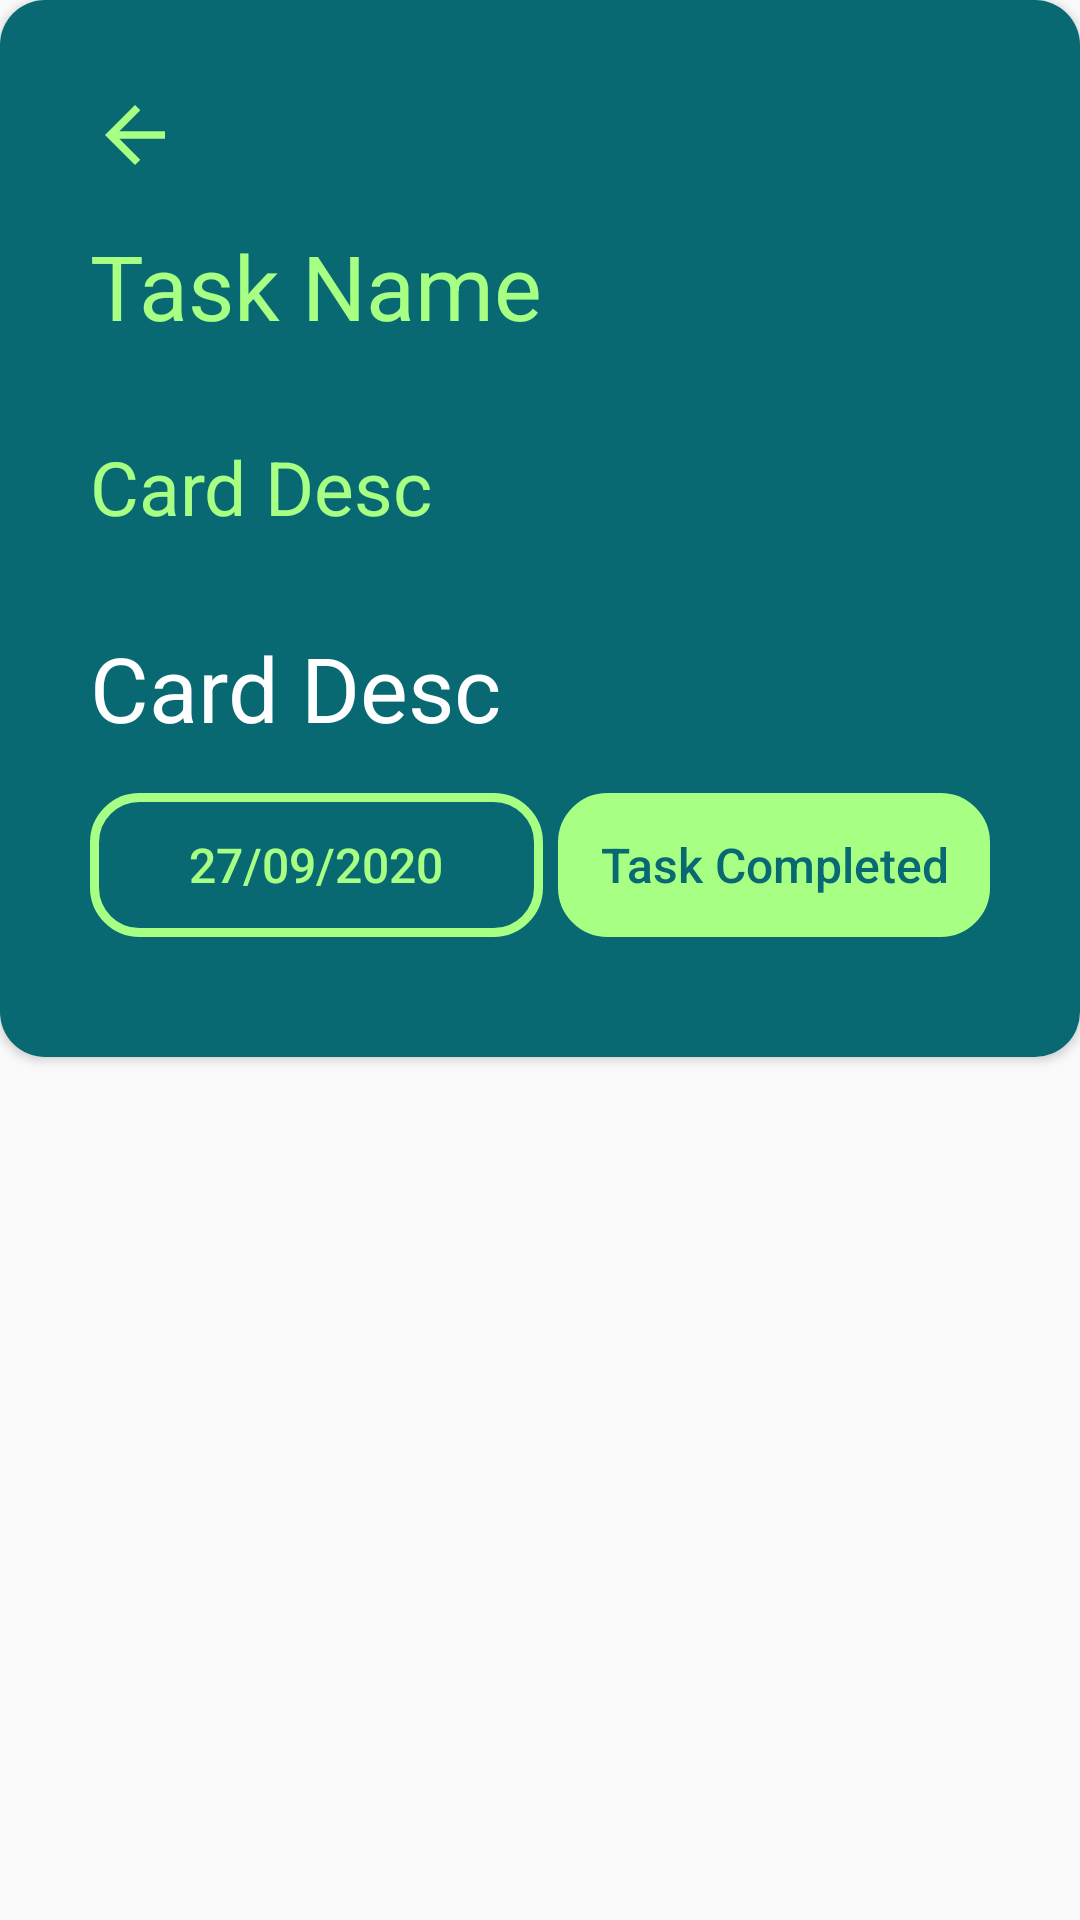

Named icons in this screenshot (1080*1920) and their bounding boxes, (x1, y1, x2, y2):
arrow back: (105, 105, 165, 165)
